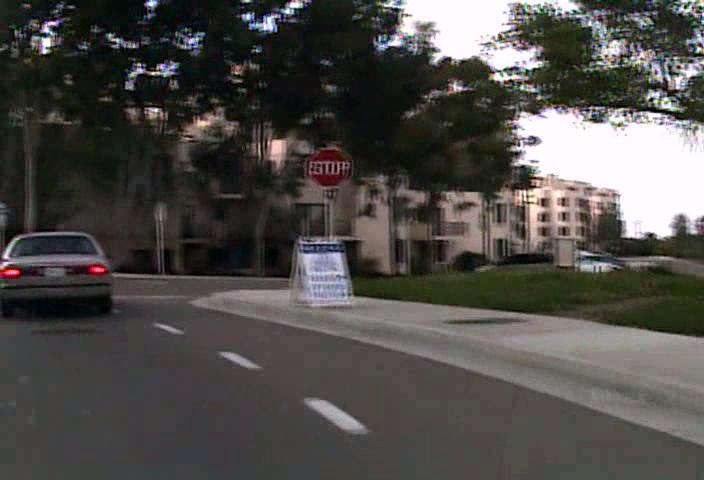stop: (306, 146, 350, 188)
